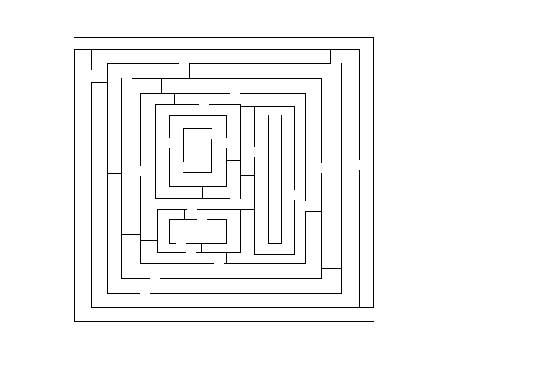maze: (73, 35, 376, 323)
